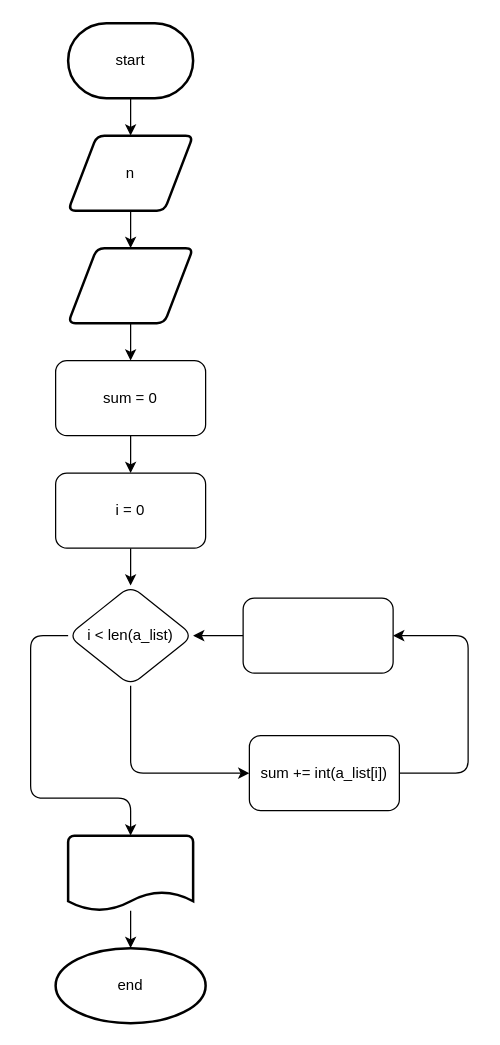
This 500x1045 diagram has some shape labels left out. Each missing label, with the centre of its shape:
"a_list" goes at [130,285].
"i += 1" goes at [317,635].
"sum" goes at [130,872].
